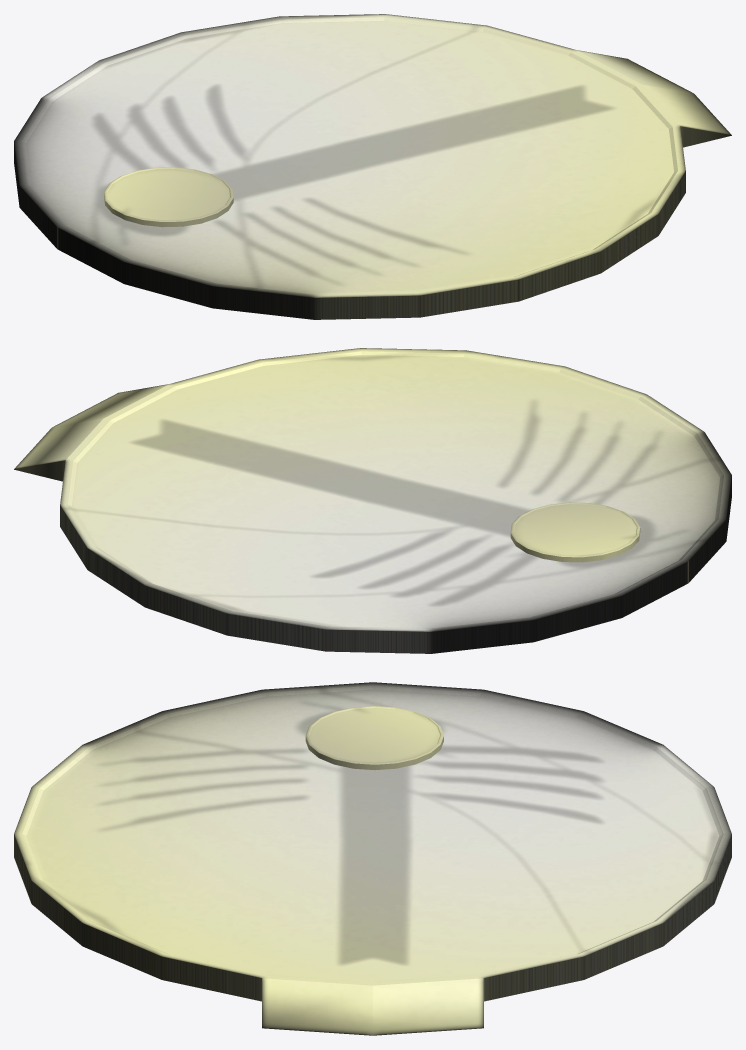
The model's file is stage1.fbx.
The picture shows the model from 3 angles, top to bottom: view 1: azimuth 30°, elevation 25°; view 2: azimuth 150°, elevation 25°; view 3: azimuth 270°, elevation 25°; orthographic projection. The views are drawn at different scales.
Visible parts, largest first — view 1: pCylinder17; view 2: pCylinder17; view 3: pCylinder17.
Part boxes in pixels (x1=…): pCylinder17: x1=14, y1=14, x2=731, y2=319; pCylinder17: x1=14, y1=348, x2=731, y2=653; pCylinder17: x1=14, y1=682, x2=731, y2=1035.
Bounding box in the file's own units: 11.28 × 0.4652 × 10.36.
Materials: 1 (1 with a texture image).
